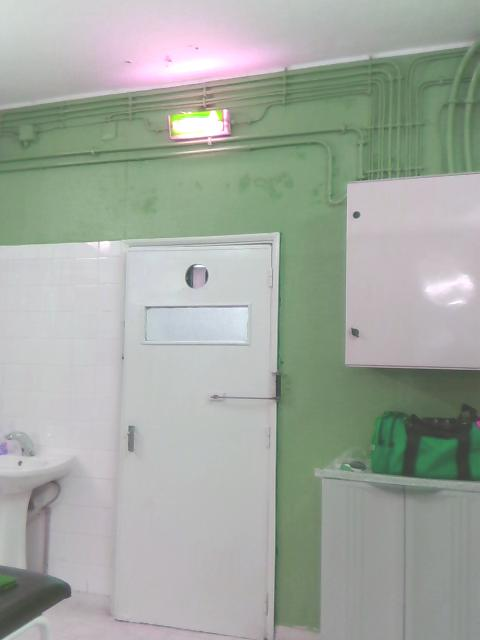closed_door: (108, 230, 278, 638)
